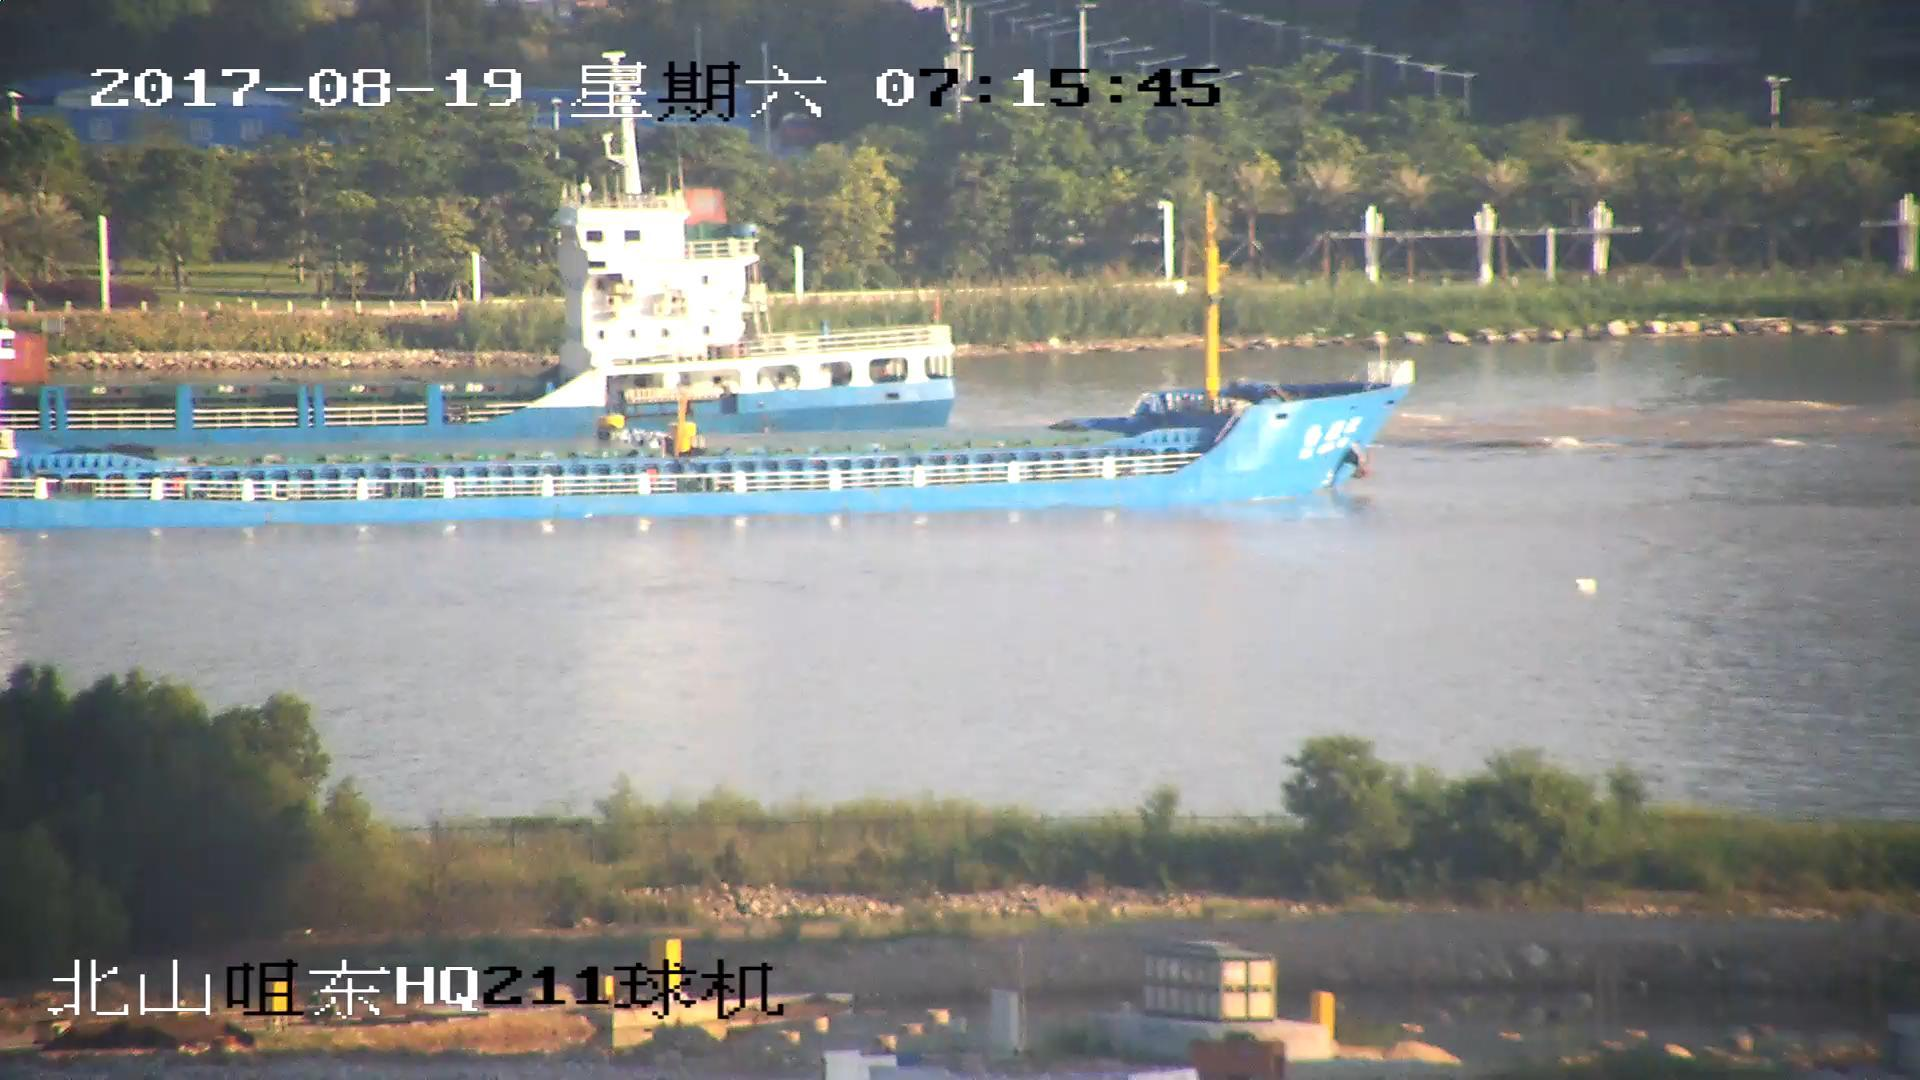Ship: (3, 195, 1422, 525), (3, 112, 963, 433)
